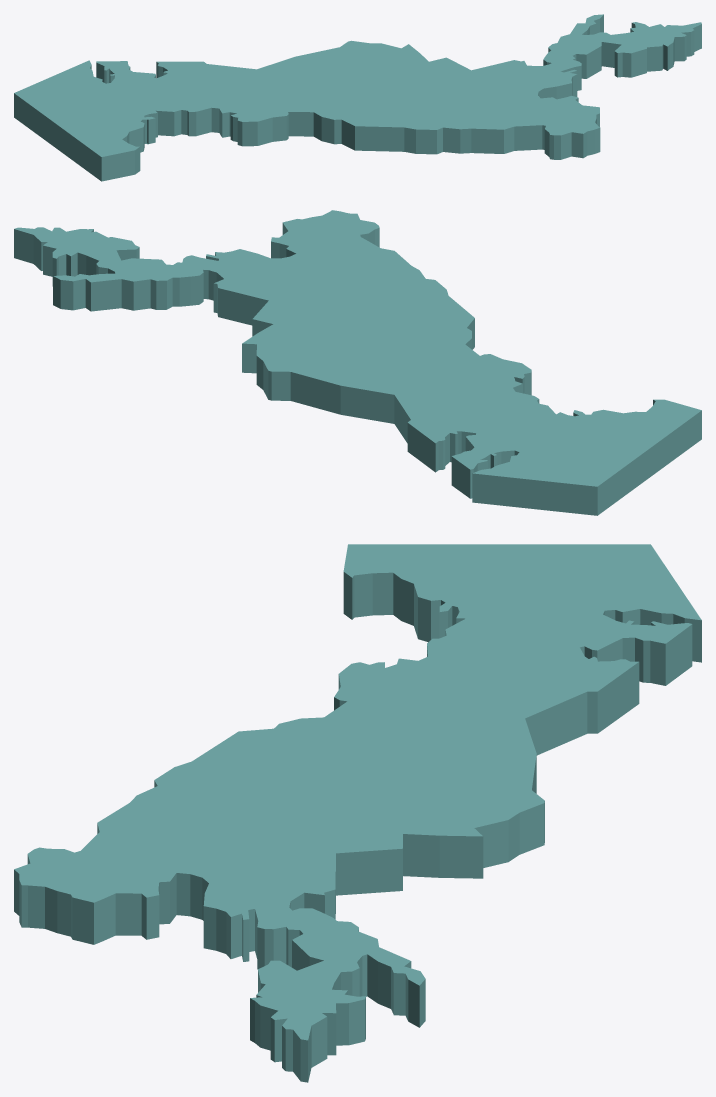
File: Uzbekistan.fbx
The picture shows the model from 3 angles, top to bottom: view 1: azimuth 30°, elevation 25°; view 2: azimuth 150°, elevation 25°; view 3: azimuth 270°, elevation 25°; orthographic projection. The views are drawn at different scales.
Parts seen in each view (by area): view 1: Uzbekistan; view 2: Uzbekistan; view 3: Uzbekistan.
Boxes of the visible parts, x1=… form: Uzbekistan: x1=14, y1=14, x2=701, y2=181; Uzbekistan: x1=14, y1=210, x2=701, y2=515; Uzbekistan: x1=14, y1=544, x2=701, y2=1082.
Bounding box in the file's own units: 33.03 × 1.31 × 19.35.
